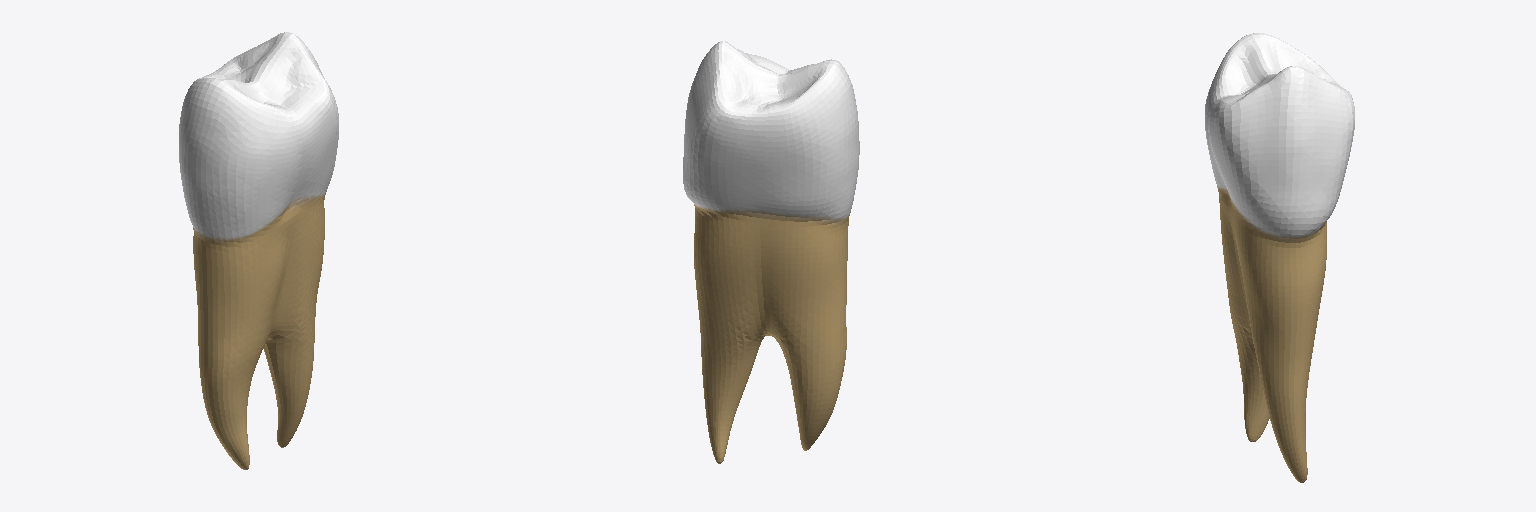
3 views of the same model, side by side, from view 1: azimuth 30°, elevation 25°; view 2: azimuth 150°, elevation 25°; view 3: azimuth 270°, elevation 25° (orthographic).
Visible parts, largest first — view 1: outer; view 2: outer; view 3: outer.
Boxes of the visible parts, <box> form: outer: <box>179,32,338,469</box>; outer: <box>683,41,859,463</box>; outer: <box>1205,33,1354,482</box>.
Size of the model in its own units: 3.64 by 9.58 by 3.14.
2 materials, 1 textured.